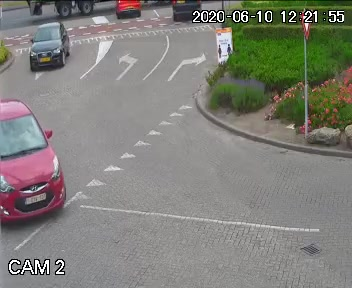car: (0, 85, 61, 234), (22, 25, 75, 73), (167, 0, 201, 24), (115, 0, 141, 17)
